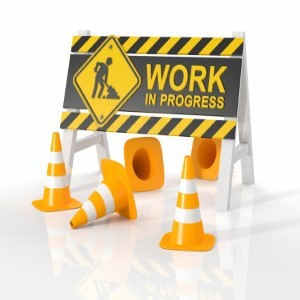traffic cone: (159, 155, 215, 251), (69, 158, 138, 229), (32, 132, 84, 213)
